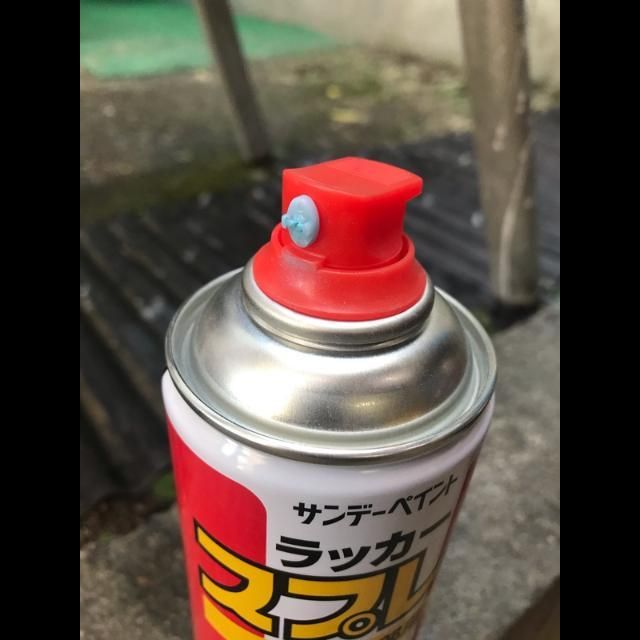chemical_spray_can: (162, 157, 497, 640)
